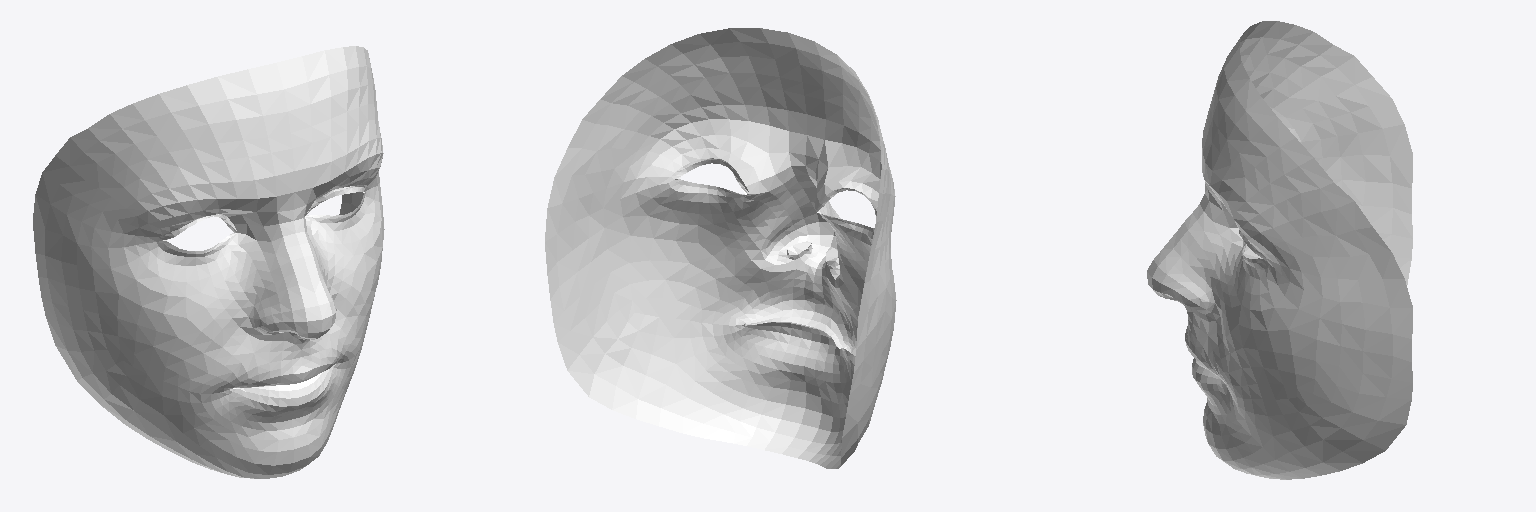
Rendered from eyeWide_R.obj.
The picture shows the model from 3 angles: view 1: azimuth 30°, elevation 25°; view 2: azimuth 150°, elevation 25°; view 3: azimuth 270°, elevation 25°; orthographic projection.
Visible parts, largest first — view 1: default; view 2: default; view 3: default.
Boxes of the visible parts, x1=… form: default: x1=33, y1=46, x2=384, y2=478; default: x1=545, y1=28, x2=896, y2=468; default: x1=1147, y1=21, x2=1412, y2=479.
Size of the model in its own units: 0.1447 by 0.182 by 0.1055.